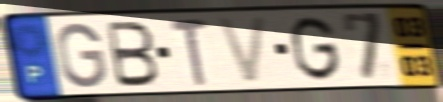7: (338, 11, 386, 84)
B: (105, 19, 162, 89)
G: (289, 14, 343, 84), (55, 21, 109, 90)
T: (167, 17, 212, 88)
V: (214, 14, 271, 87)
